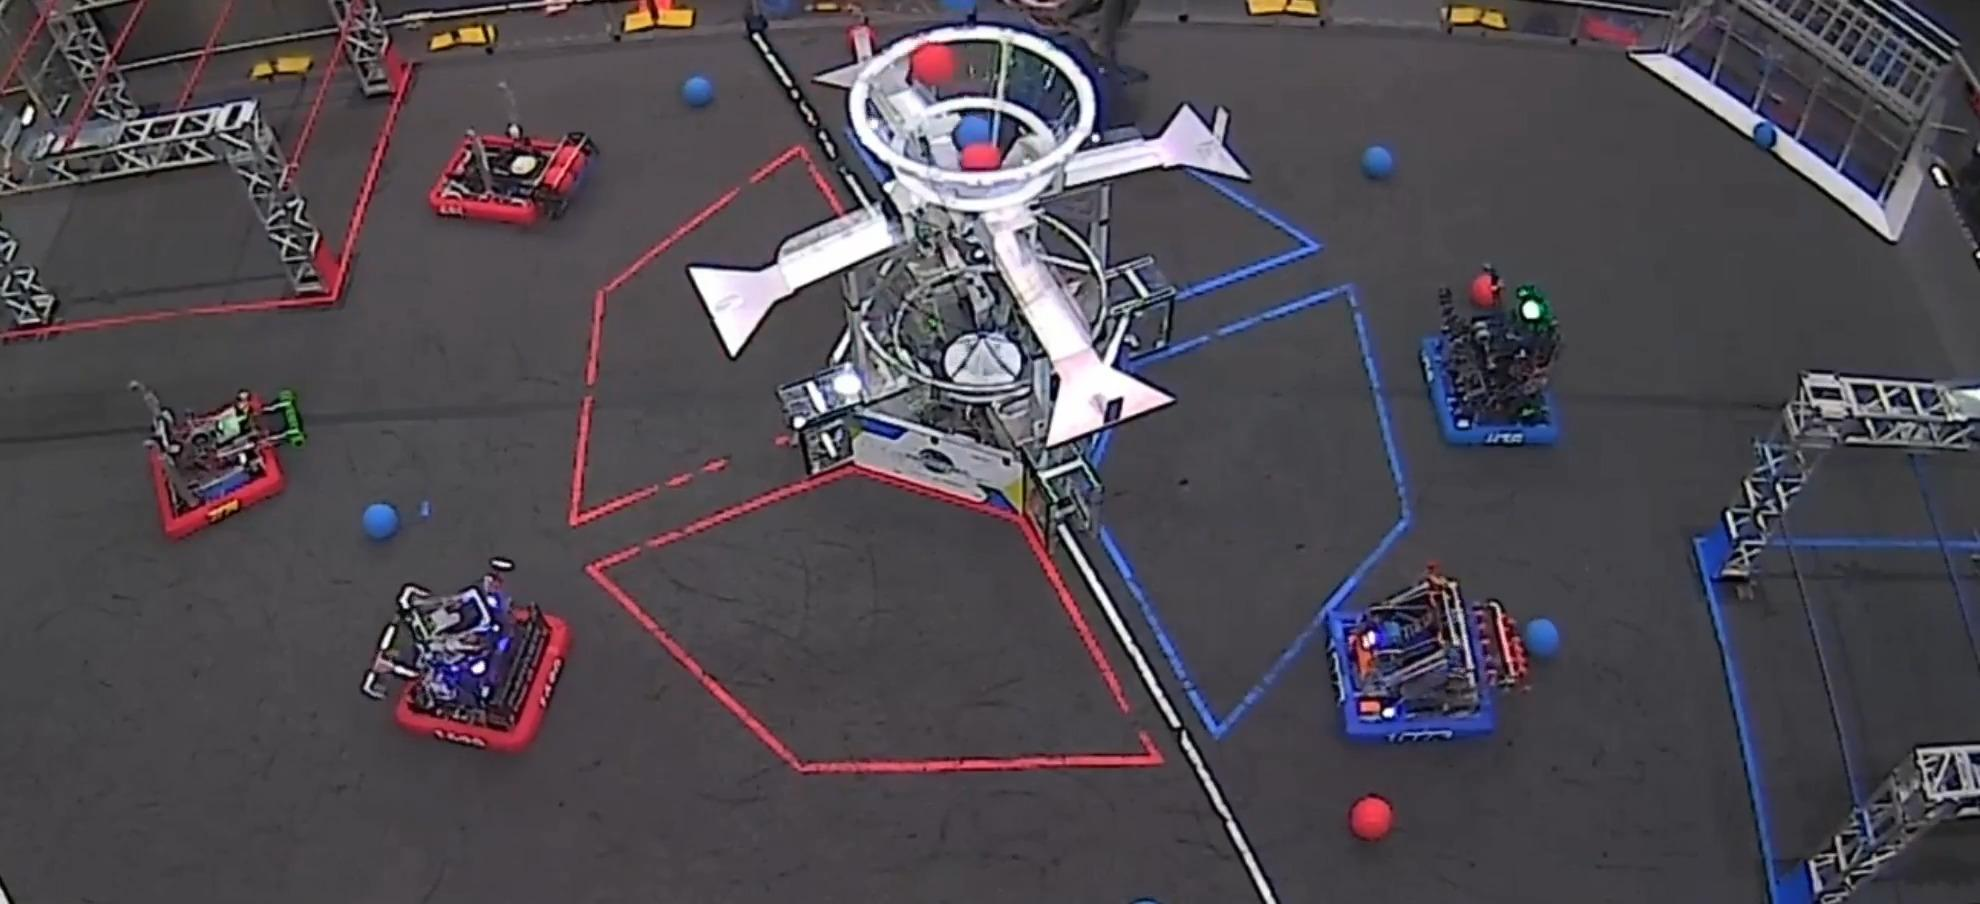Robots: (362, 558, 570, 752), (1327, 566, 1529, 742), (129, 381, 306, 539), (1422, 265, 1560, 444), (429, 86, 596, 225), (1020, 30, 1160, 152)
